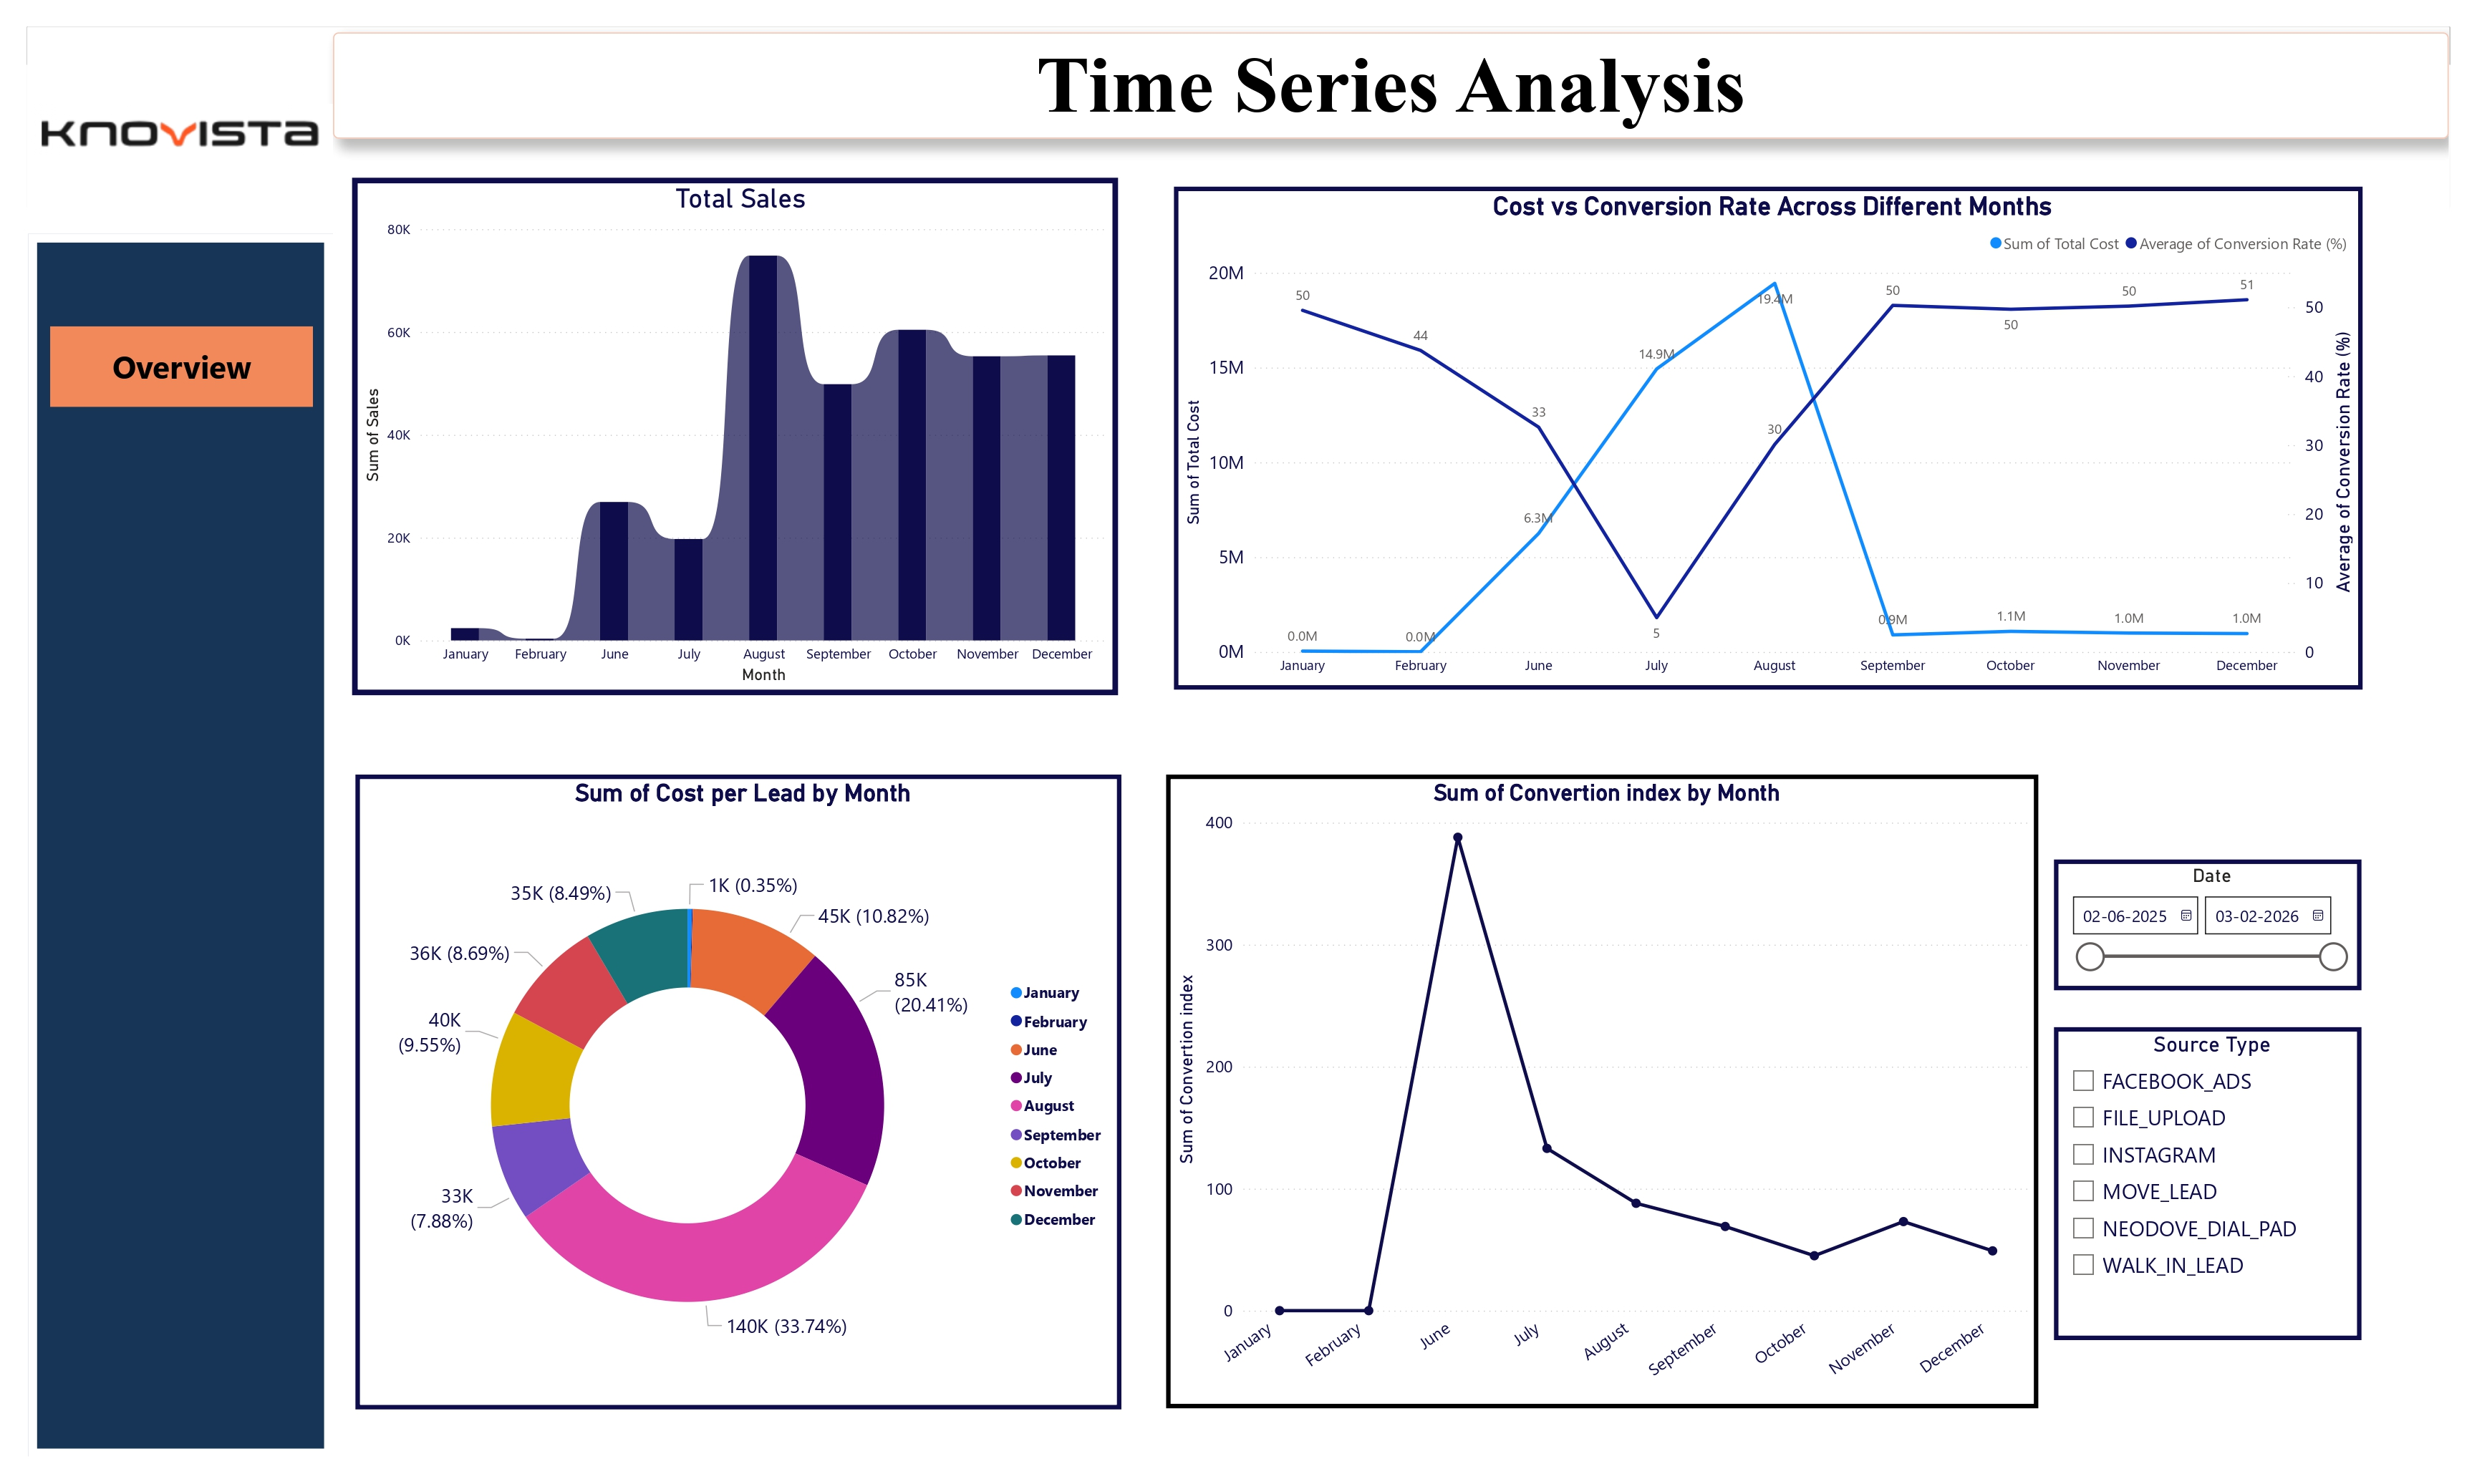

The dashboard page shown, as its layout file describes it:
{"tool":"powerbi","page":{"name":"Time Series Analysis","canvas":[2165,1279],"ordinal":2},"visuals":[{"type":"textbox","box":[272.5,5,1892.5,95],"z":0},{"type":"shape","box":[0,185,272.5,1095],"z":1000},{"type":"slicer","title":"Date","fields":{"Values":["knovist_technologies_conversion_and_sales_data_modified.creation_date"]},"box":[1812.1,745.4,275,116.7],"z":2000},{"type":"slicer","title":"Source Type","fields":{"Values":["knovist_technologies_conversion_and_sales_data_modified.source_type"]},"box":[1811.7,895,275,280],"z":3000},{"type":"ribbonChart","title":"Total Sales ","fields":{"Category":["knovist_technologies_conversion_and_sales_data_modified.creation_date.Variation.Date Hierarchy.Month"],"Y":["Sum(knovist_technologies_conversion_and_sales_data_modified.Sales)"]},"box":[290,135,685,462.5],"z":4000},{"type":"lineChart","title":"Cost vs Conversion Rate Across Different Months","fields":{"Category":["knovist_technologies_conversion_and_sales_data_modified.creation_date.Variation.Date Hierarchy.Month"],"Y":["Sum(knovist_technologies_conversion_and_sales_data_modified.Total Cost)"],"Y2":["Avg(knovist_technologies_conversion_and_sales_data_modified.Conversion Rate (%))"]},"box":[1025,142.5,1062.5,450],"z":5000},{"type":"donutChart","fields":{"Category":["knovist_technologies_conversion_and_sales_data_modified.creation_date.Variation.Date Hierarchy.Month"],"Y":["Sum(knovist_technologies_conversion_and_sales_data_modified.Cost per Lead)"]},"box":[293,668.5,685,568.3],"z":6000},{"type":"lineChart","fields":{"Category":["knovist_technologies_conversion_and_sales_data_modified.creation_date.Variation.Date Hierarchy.Month"],"Y":["Sum(knovist_technologies_conversion_and_sales_data_modified.Convertion index)"]},"box":[1018,668.5,780,567.5],"z":7000},{"type":"actionButton","box":[20,267.5,235,72.5],"z":7001},{"type":"image","box":[0,0,272.5,185],"z":7002}]}

Visuals, with their boxes in screenshot pixels (x1, y1, x2, y2):
textbox: <region>320, 19, 2456, 126</region>
shape: <region>13, 222, 320, 1457</region>
"Date" slicer: <region>2057, 853, 2367, 985</region>
"Source Type" slicer: <region>2057, 1022, 2367, 1338</region>
"Total Sales " ribbonChart: <region>340, 165, 1113, 687</region>
"Cost vs Conversion Rate Across Different Months" lineChart: <region>1169, 174, 2368, 682</region>
donutChart - knovist_technologies_conversion_and_sales_data_modified.creation_date.Variation.Date Hierarchy.Month x Sum(knovist_technologies_conversion_and_sales_data_modified.Cost per Lead): <region>344, 767, 1116, 1408</region>
lineChart - knovist_technologies_conversion_and_sales_data_modified.creation_date.Variation.Date Hierarchy.Month x Sum(knovist_technologies_conversion_and_sales_data_modified.Convertion index): <region>1162, 767, 2042, 1407</region>
actionButton: <region>36, 314, 301, 397</region>
image: <region>13, 13, 320, 222</region>
